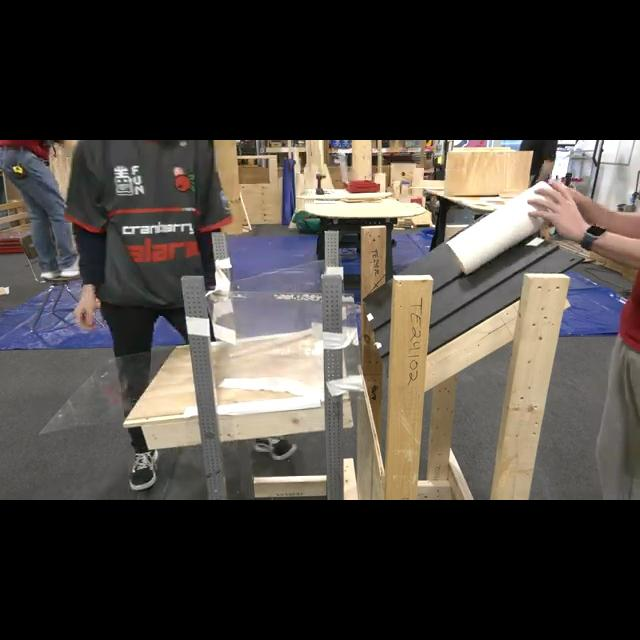CORAL: (444, 179, 554, 275)
